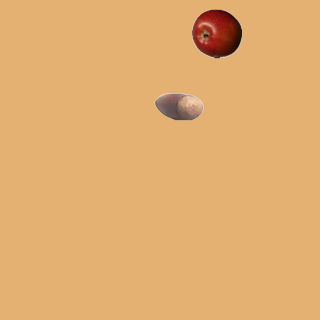Apple Braeburn: (191, 8, 241, 58)
Hazelnut: (153, 81, 203, 131)
